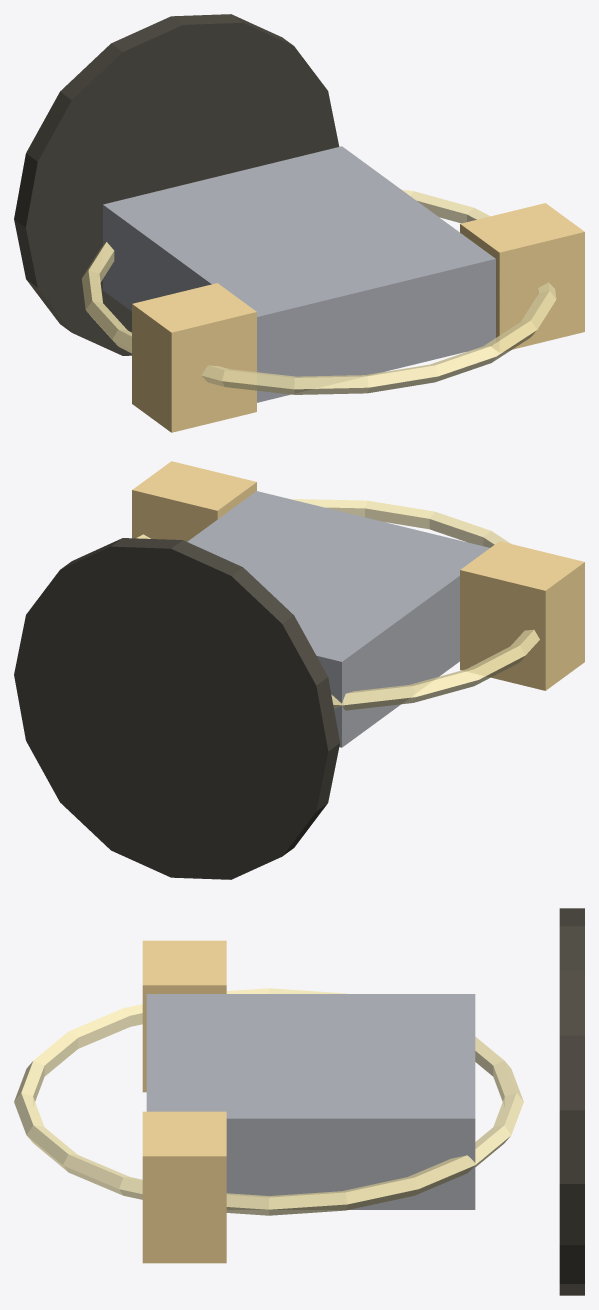
The model's file is 05_high_tier_magic_armor_aura.glb.
3 renders of one model, top to bottom at view 1: azimuth 30°, elevation 25°; view 2: azimuth 150°, elevation 25°; view 3: azimuth 270°, elevation 25°, orthographic. The views are drawn at different scales.
Visible parts, largest first — view 1: chest_plate_upgrade, armor_display_base, left_pauldron_upgrade, right_pauldron_upgrade, armor_barrier_ring; view 2: armor_display_base, chest_plate_upgrade, left_pauldron_upgrade, armor_barrier_ring, right_pauldron_upgrade; view 3: chest_plate_upgrade, armor_barrier_ring, right_pauldron_upgrade, armor_display_base, left_pauldron_upgrade.
Part boxes in pixels (box(x1,y1,x2,y2)): chest_plate_upgrade: box(103, 146, 495, 402); armor_display_base: box(14, 14, 339, 355); left_pauldron_upgrade: box(132, 283, 256, 432); right_pauldron_upgrade: box(460, 203, 584, 351); armor_barrier_ring: box(81, 189, 556, 394); armor_display_base: box(14, 538, 339, 879); chest_plate_upgrade: box(187, 491, 489, 747); left_pauldron_upgrade: box(460, 541, 584, 690); armor_barrier_ring: box(136, 499, 539, 710); right_pauldron_upgrade: box(132, 461, 256, 541); chest_plate_upgrade: box(146, 994, 475, 1209); armor_barrier_ring: box(14, 988, 523, 1215); right_pauldron_upgrade: box(142, 1111, 226, 1263); armor_display_base: box(559, 908, 584, 1295); left_pauldron_upgrade: box(142, 940, 226, 1092).
Size of the model in its own units: 1.21 by 0.92 by 1.36.
